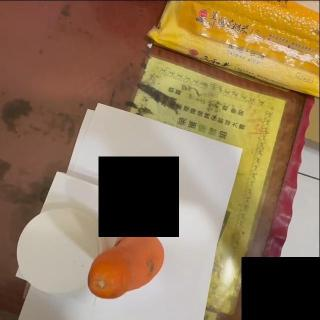carrot: (86, 230, 164, 300)
